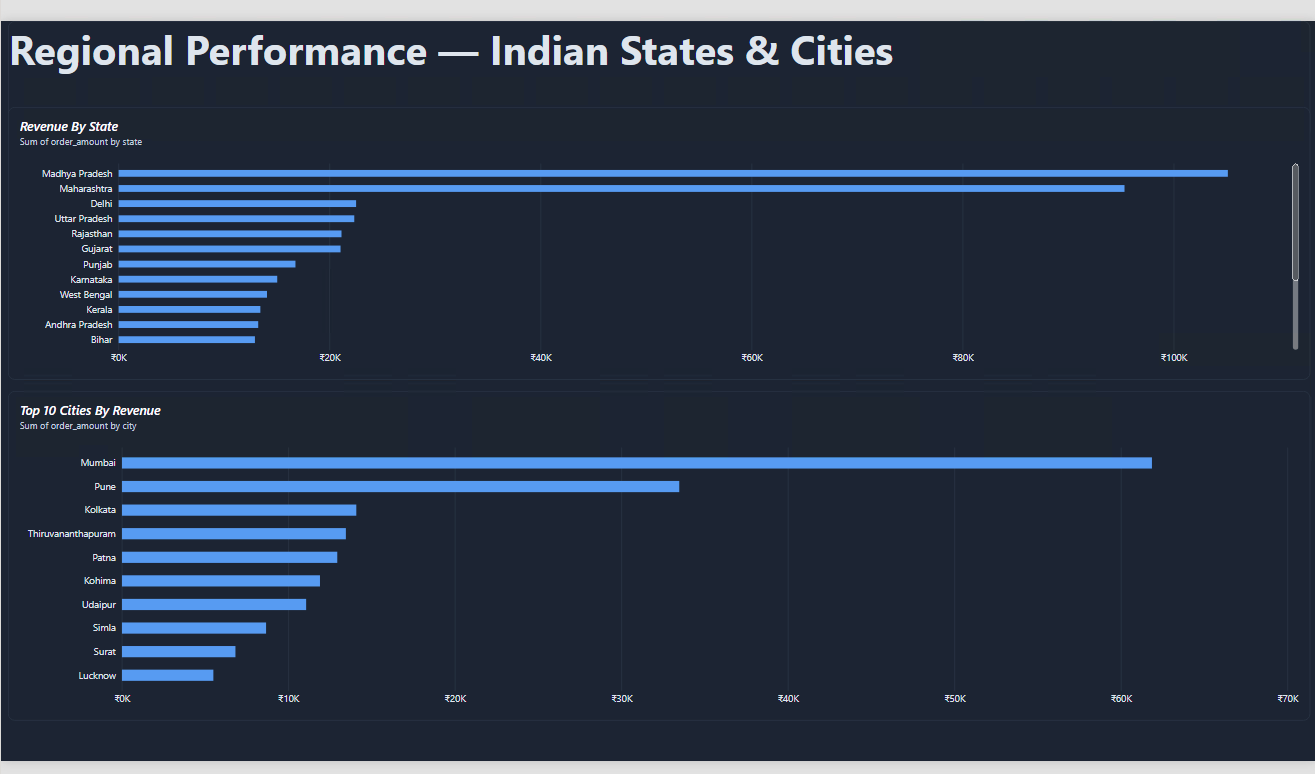

This screenshot's page, from the dashboard's own definition file:
{"tool":"powerbi","page":{"name":"Regional Performance","canvas":[1920,1080],"ordinal":1},"visuals":[{"type":"textbox","box":[10.2,0,1899.6,170.7],"z":0},{"type":"barChart","title":"Revenue By State","fields":{"Category":["list_of_orders.state"],"Y":["Sum(order_details.order_amount)"]},"box":[10.2,125.5,1899.6,398.3],"z":1},{"type":"barChart","title":"Top 10 Cities By Revenue","fields":{"Category":["list_of_orders.city"],"Y":["Sum(order_details.order_amount)"]},"box":[10.2,539.8,1899.6,481.5],"z":2}]}

Visuals, with their boxes on the page's 1920x1080 design canvas (x1, y1, x2, y2). These are canvas units, not pixel positions in the 1315x774 screenshot, which may show the page scaled, cropped or inside an application window:
textbox: pyautogui.locateOnScreen(10, 0, 1910, 171)
"Revenue By State" barChart: pyautogui.locateOnScreen(10, 126, 1910, 524)
"Top 10 Cities By Revenue" barChart: pyautogui.locateOnScreen(10, 540, 1910, 1021)
